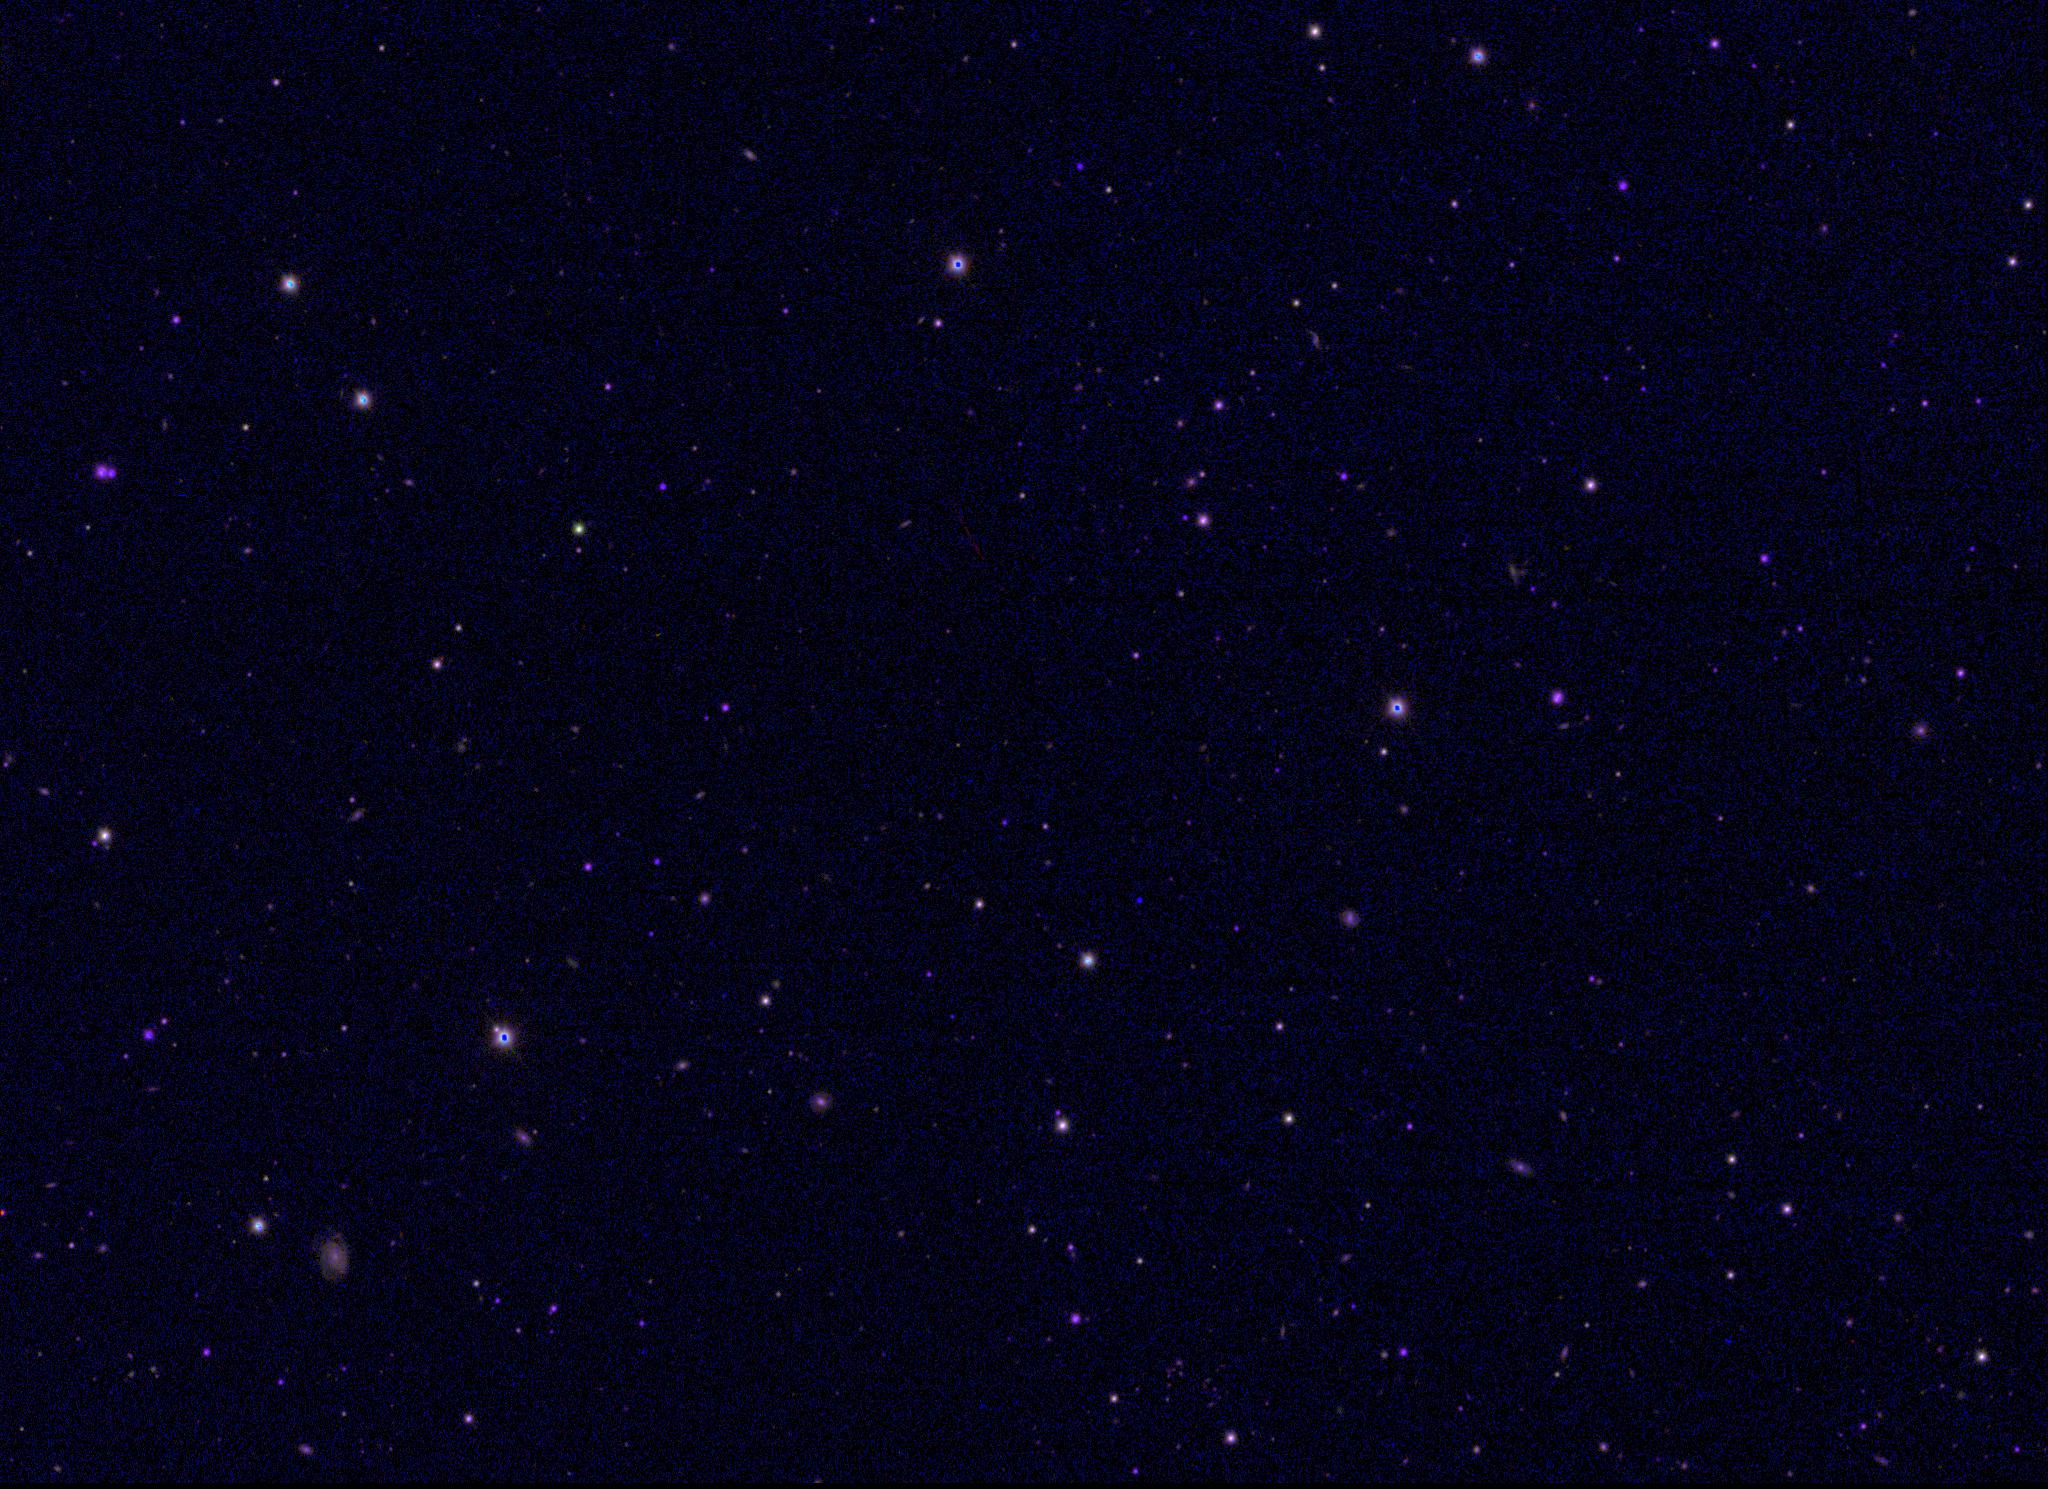L: (1134, 892, 1146, 907)
